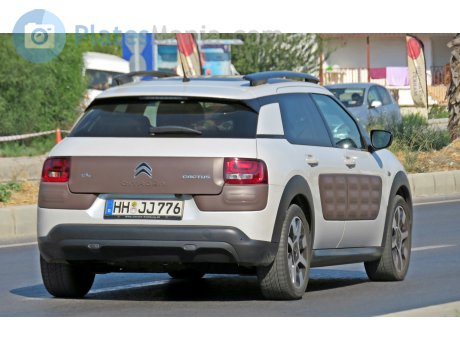License Plates: (113, 199, 184, 214)
